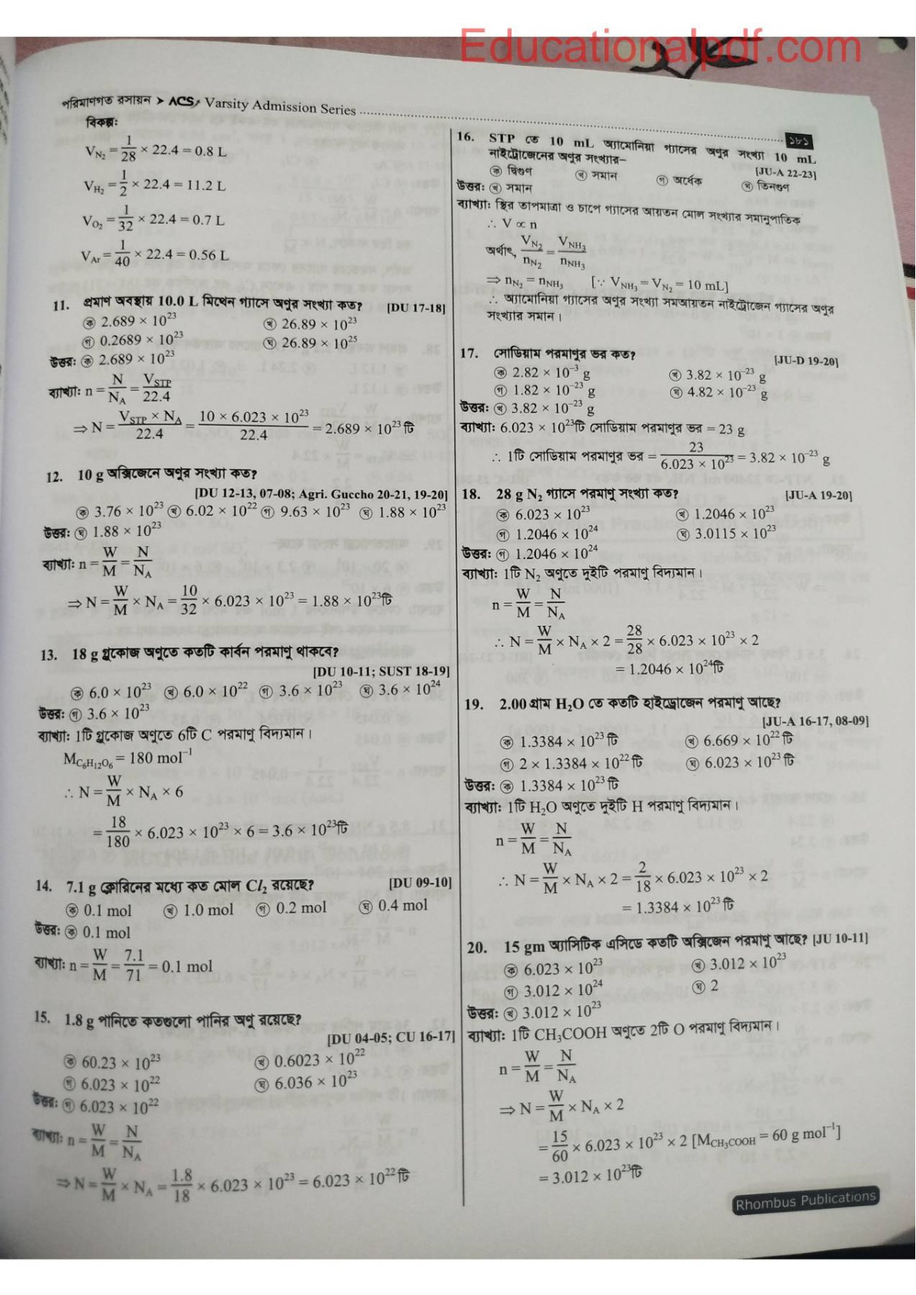question: (29, 1005, 460, 1101), (461, 690, 877, 778), (463, 927, 876, 1003), (36, 639, 456, 709), (41, 461, 454, 529), (49, 288, 453, 352), (459, 483, 861, 547), (455, 127, 825, 195), (457, 342, 847, 402), (29, 872, 458, 926)
